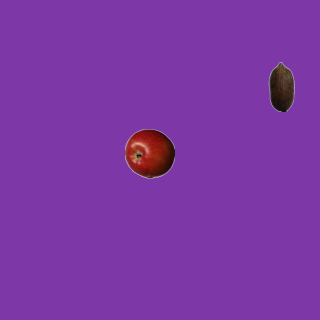Apple Braeburn: (124, 128, 174, 178)
Nut Pecan: (256, 61, 306, 111)
